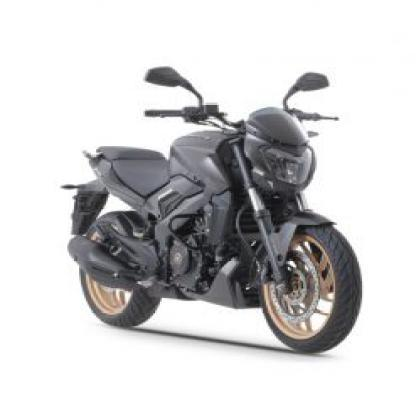Motorcycle: (52, 48, 371, 362)
